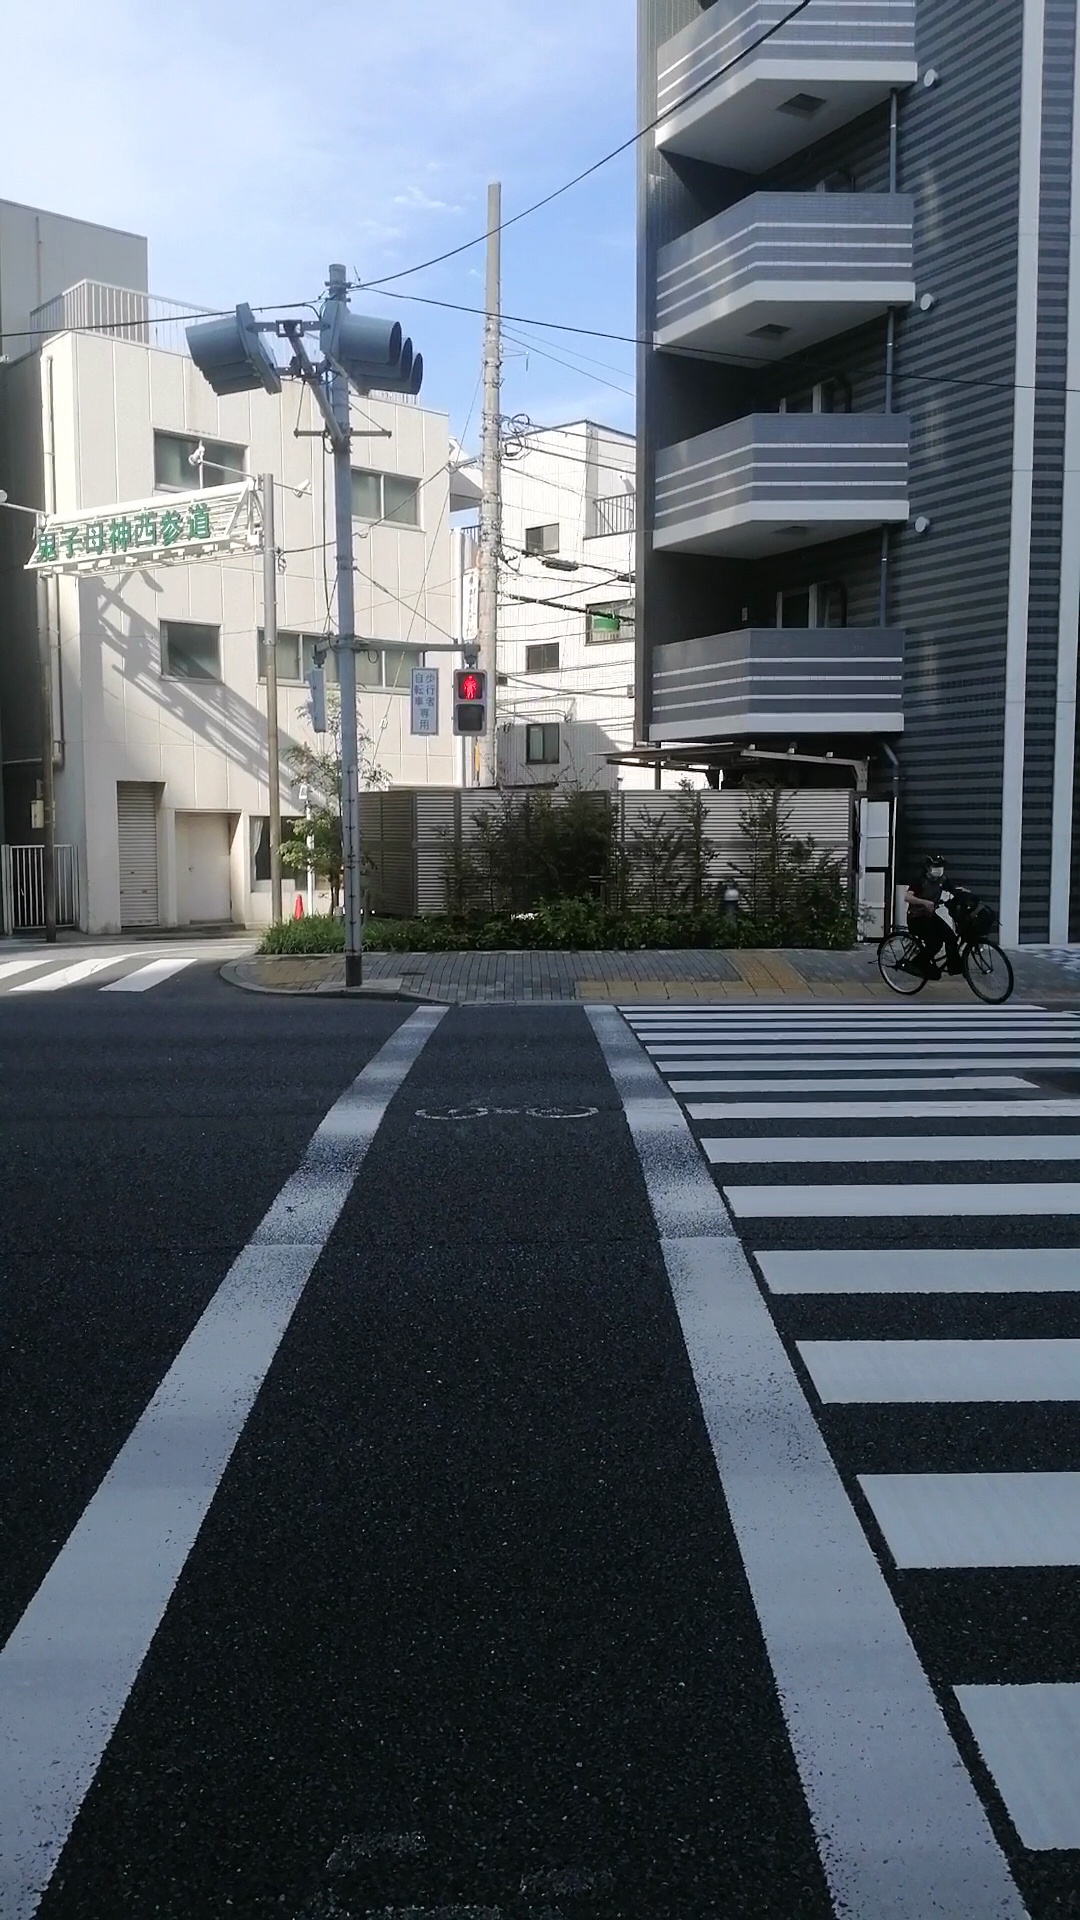red: (451, 669, 484, 738)
